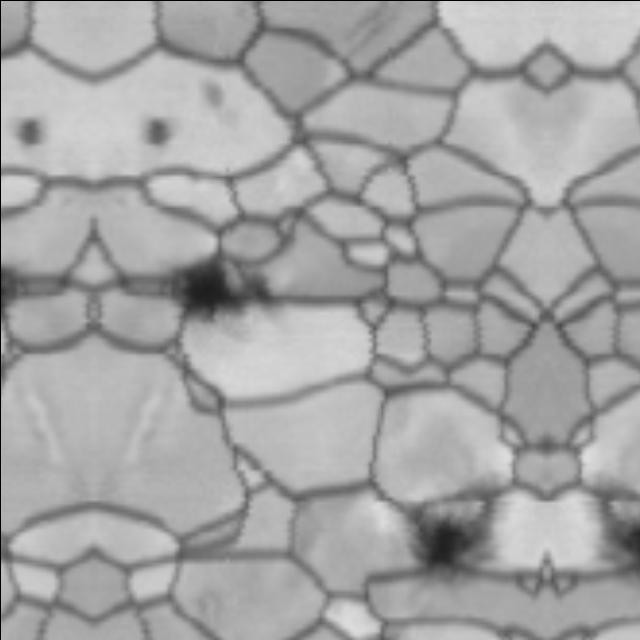good_void: (165, 251, 280, 327), (405, 505, 492, 586), (602, 507, 640, 581), (191, 73, 231, 112), (142, 115, 173, 152), (13, 115, 44, 152)
